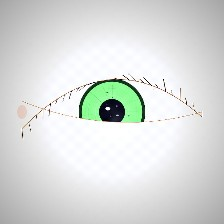pinguecula_lesion: (135, 97, 178, 132)
